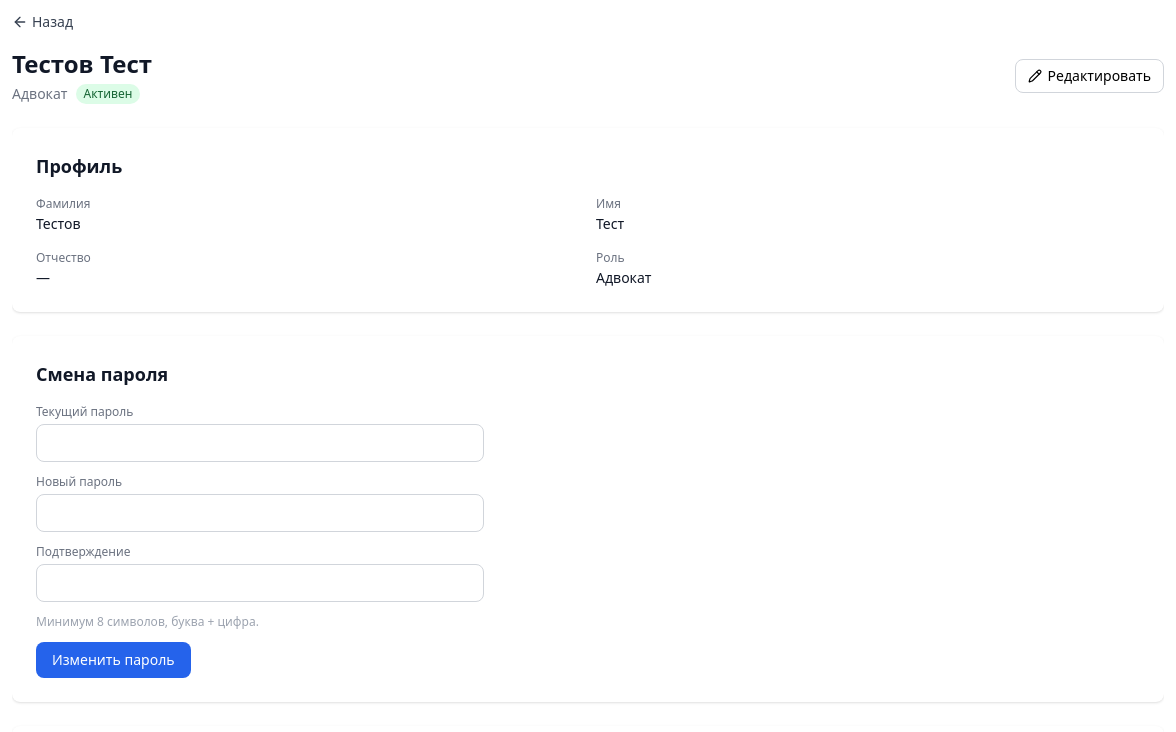
it: Change password › validates password mismatch
Type "OldPass1" into the password field labelled "Текущий пароль" at x=260, y=443, box top-left (36, 424), bottom-right (484, 462)
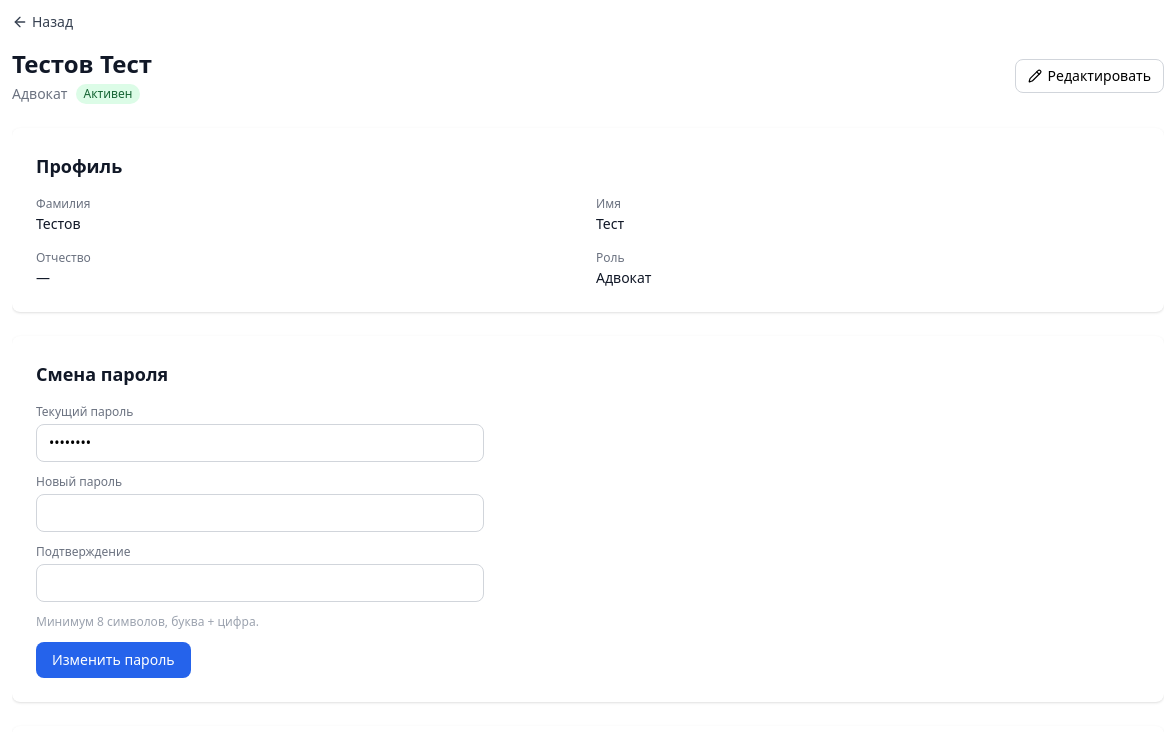
Type "NewPass1" into the password field labelled "Новый пароль" at x=260, y=513, box top-left (36, 494), bottom-right (484, 532)
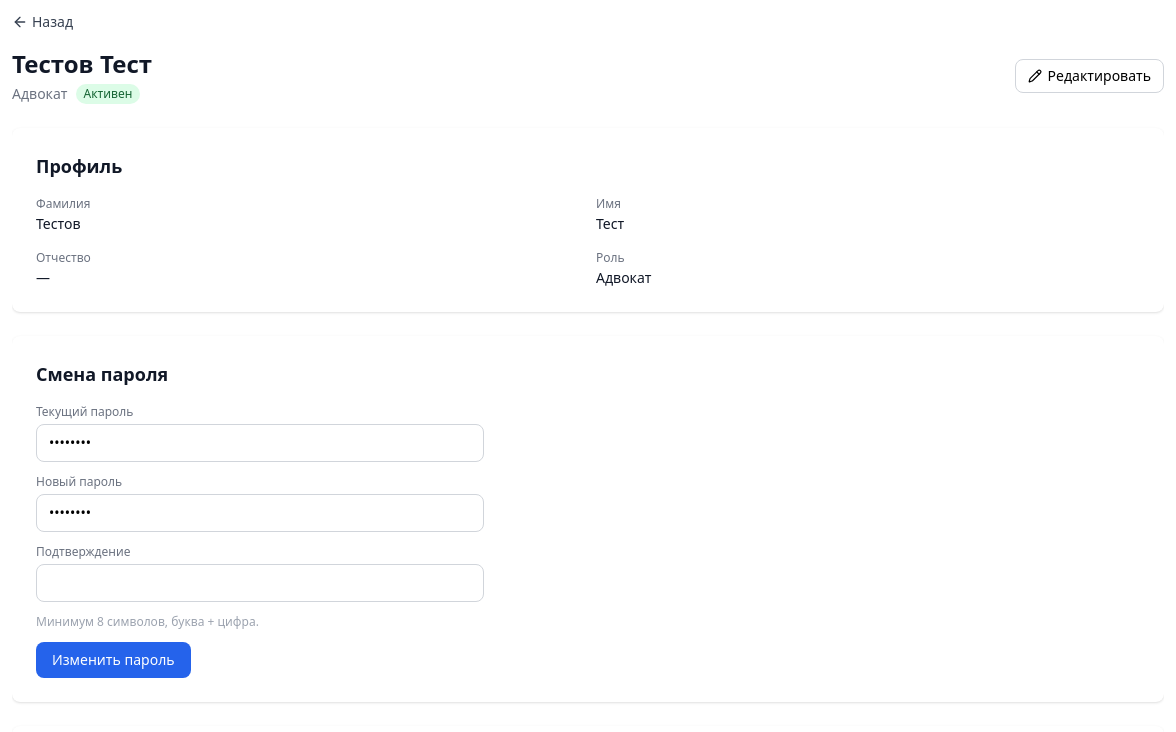
Type "Mismatch1" into the password field labelled "Подтверждение" at x=260, y=583, box top-left (36, 564), bottom-right (484, 602)
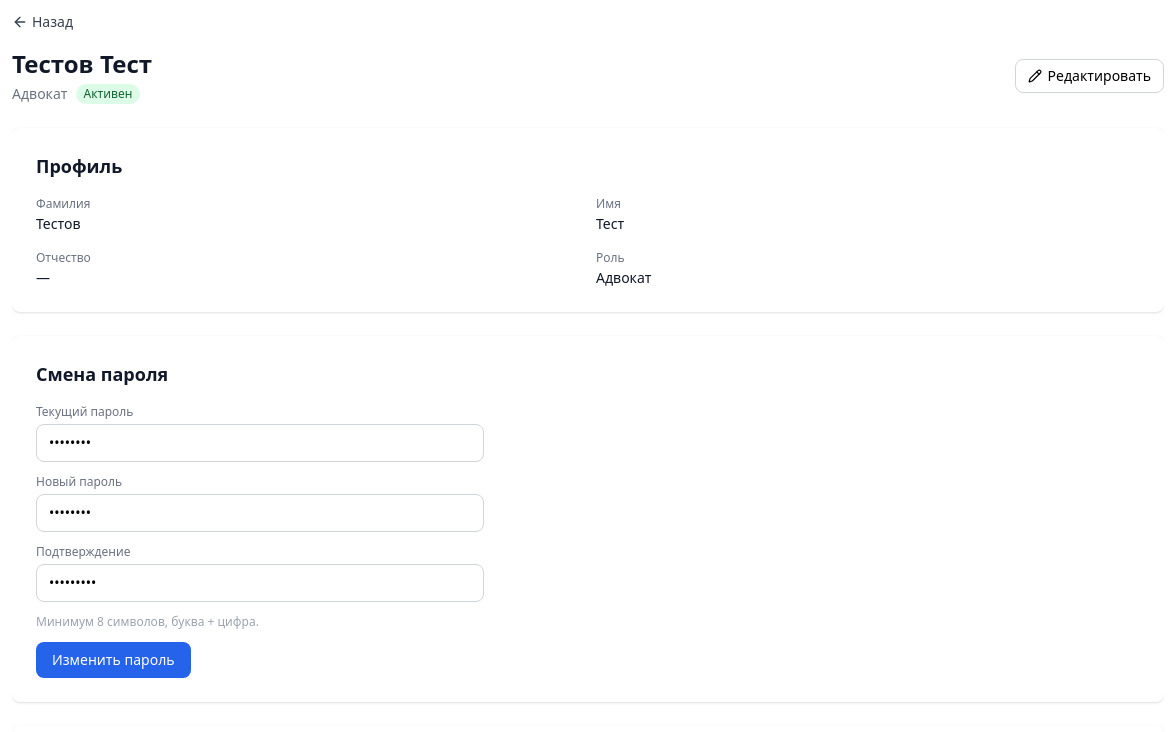
Click the button "Изменить пароль" at x=113, y=660, box top-left (36, 642), bottom-right (191, 678)
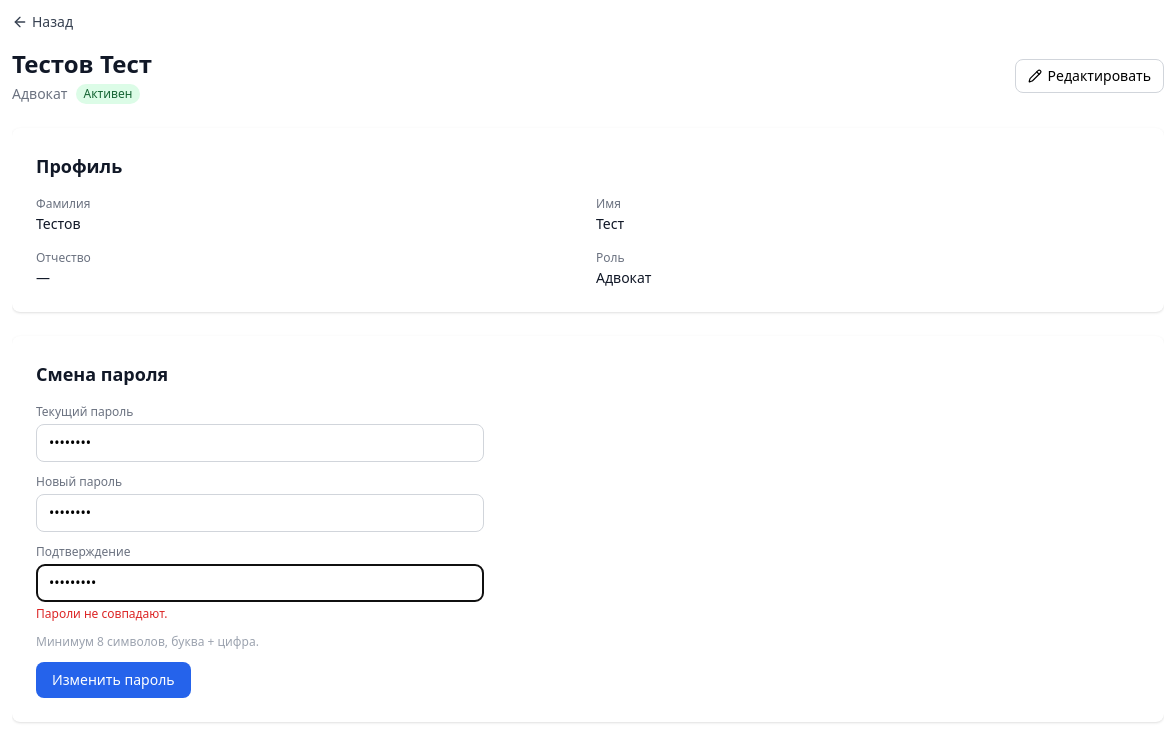
Now the text "Пароли не совпадают." is shown, box top-left (36, 605), bottom-right (168, 622)
